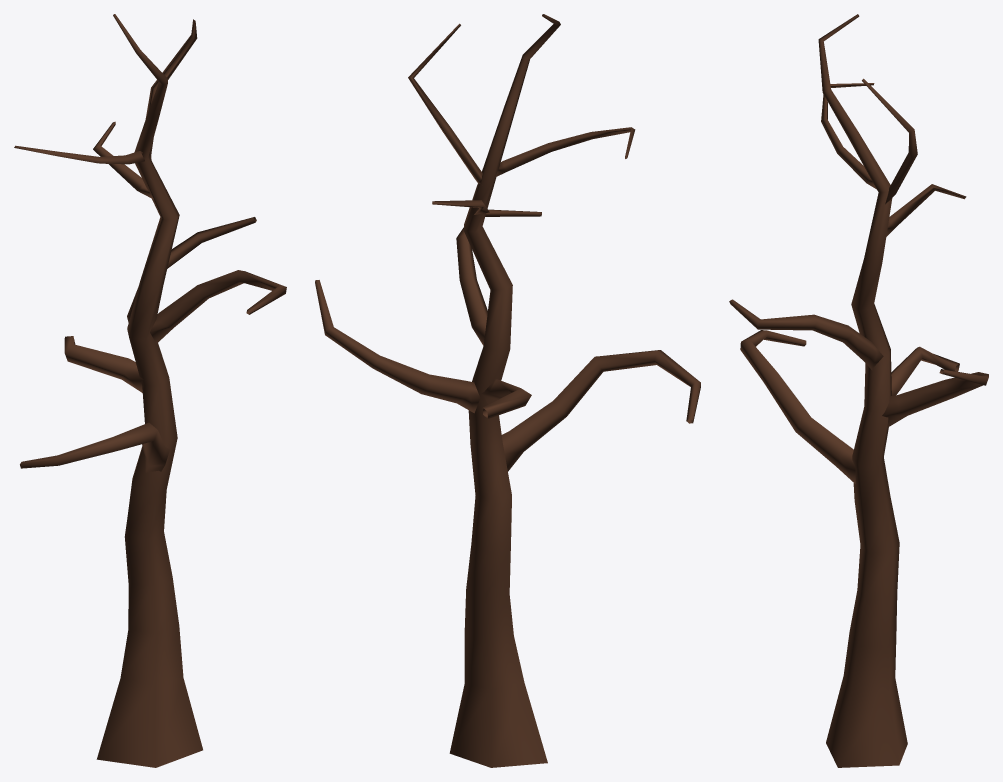
File: Tree_1.fbx
The picture shows the model from 3 angles, left to right: view 1: azimuth 30°, elevation 25°; view 2: azimuth 150°, elevation 25°; view 3: azimuth 270°, elevation 25°; orthographic projection. The views are drawn at different scales.
Visible parts, largest first — view 1: Tree_1; view 2: Tree_1; view 3: Tree_1.
Boxes of the visible parts, x1,y1,x2,y2 form: Tree_1: [14, 14, 286, 767]; Tree_1: [315, 14, 700, 767]; Tree_1: [729, 14, 988, 767].
Bounding box in the file's own units: 51.97 × 120 × 39.44.
